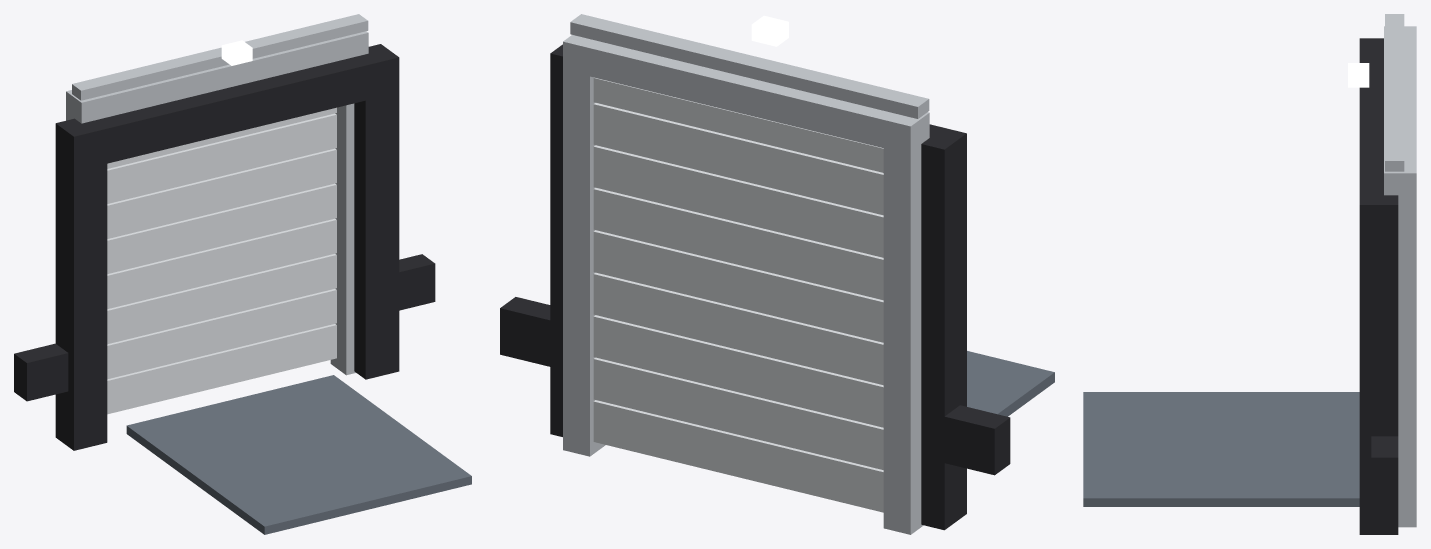
File: dock_lite.glb
3 renders of one model, left to right at view 1: azimuth 30°, elevation 25°; view 2: azimuth 150°, elevation 25°; view 3: azimuth 270°, elevation 25°, orthographic. The views are drawn at different scales.
Parts seen in each view (by area): view 1: Dock01_Door, Dock01_Seal, Dock01_Leveler, Dock01_Frame, Dock01_Bumpers, Dock01_DockLight; view 2: Dock01_Door, Dock01_Frame, Dock01_Seal, Dock01_Bumpers, Dock01_Leveler, Dock01_DockLight; view 3: Dock01_Leveler, Dock01_Seal, Dock01_Frame, Dock01_Bumpers, Dock01_DockLight.
Boxes of the visible parts, x1,y1,x2,y2 form: Dock01_Door: [107, 107, 336, 414]; Dock01_Seal: [55, 44, 399, 450]; Dock01_Leveler: [126, 375, 471, 534]; Dock01_Frame: [66, 14, 368, 375]; Dock01_Bumpers: [14, 254, 435, 401]; Dock01_DockLight: [221, 40, 252, 65]; Dock01_Door: [593, 77, 883, 512]; Dock01_Frame: [563, 14, 929, 534]; Dock01_Seal: [550, 44, 966, 530]; Dock01_Bumpers: [500, 297, 1010, 475]; Dock01_Leveler: [967, 351, 1054, 416]; Dock01_DockLight: [751, 15, 788, 46]; Dock01_Leveler: [1083, 392, 1359, 506]; Dock01_Seal: [1359, 38, 1398, 534]; Dock01_Frame: [1384, 14, 1416, 527]; Dock01_Bumpers: [1371, 436, 1398, 497]; Dock01_DockLight: [1348, 63, 1369, 87].
Size of the model in its own units: 5.12 by 4.4 by 3.45.
